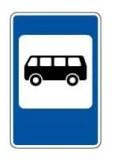road_sign: (10, 11, 102, 149)
